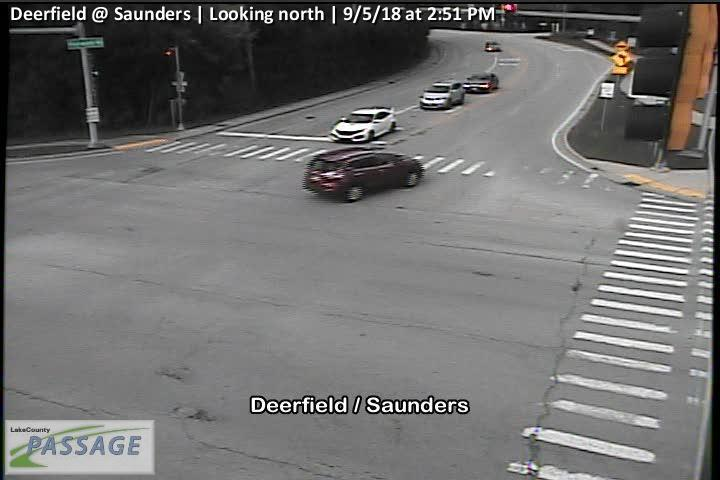SUV: (304, 147, 424, 202), (329, 106, 396, 144), (419, 80, 465, 109)
Sedan: (464, 73, 498, 92)
